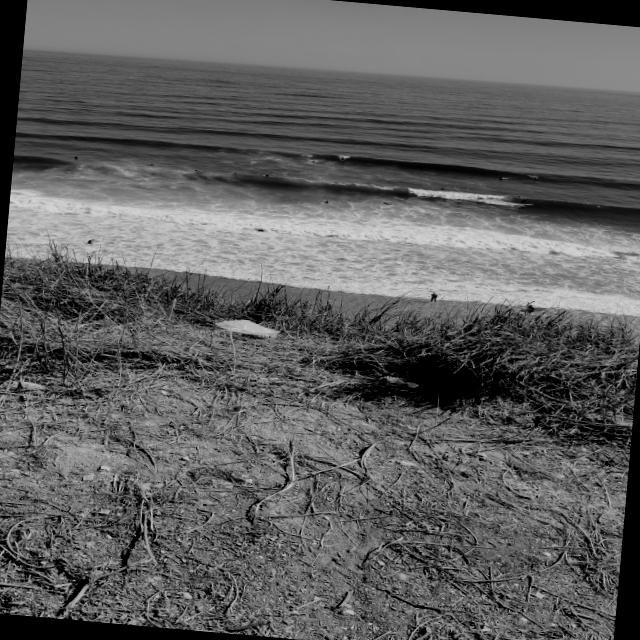Plastic film: (214, 320, 277, 337)
Unlabeled litter: (386, 377, 418, 388)
